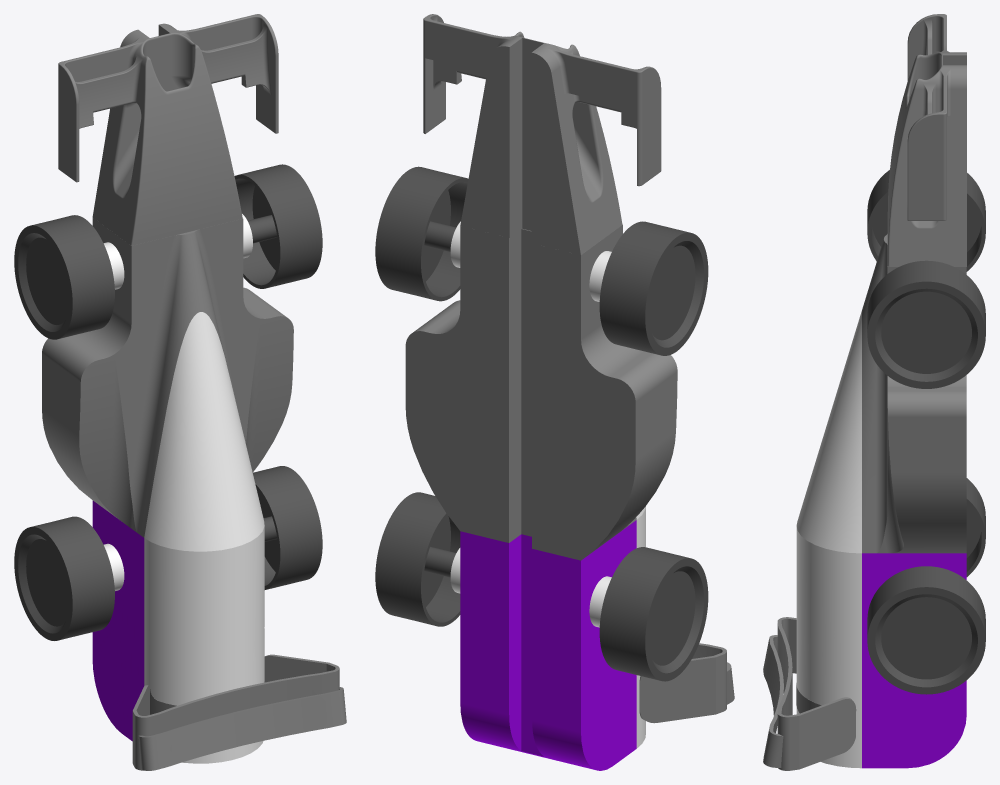
3 views of the same model, side by side, from view 1: azimuth 30°, elevation 25°; view 2: azimuth 150°, elevation 25°; view 3: azimuth 270°, elevation 25° (orthographic). The views are drawn at different scales.
Parts seen in each view (by area): view 1: Body1 (×6), Body6, Body7, Alerón (1), Alerón; view 2: Body1 (×6), Body6, Body7, Alerón, Body5; view 3: Body1 (×6), Body6, Body7, Alerón, Alerón (1).
Part boxes in pixels (bbox=[...]): Body1 (×6): bbox=[14, 14, 322, 763]; Body6: bbox=[42, 218, 293, 537]; Body7: bbox=[92, 500, 144, 741]; Alerón (1): bbox=[138, 687, 346, 770]; Alerón: bbox=[132, 654, 339, 770]; Body1 (×6): bbox=[375, 14, 708, 748]; Body6: bbox=[405, 224, 677, 560]; Body7: bbox=[460, 520, 636, 770]; Alerón: bbox=[639, 643, 726, 723]; Body5: bbox=[589, 251, 611, 301]; Body1 (×6): bbox=[796, 14, 985, 768]; Body6: bbox=[862, 234, 966, 553]; Body7: bbox=[862, 553, 966, 768]; Alerón: bbox=[777, 617, 856, 770]; Alerón (1): bbox=[763, 635, 783, 767].
Size of the model in its own units: 74 by 190 by 56.39.
